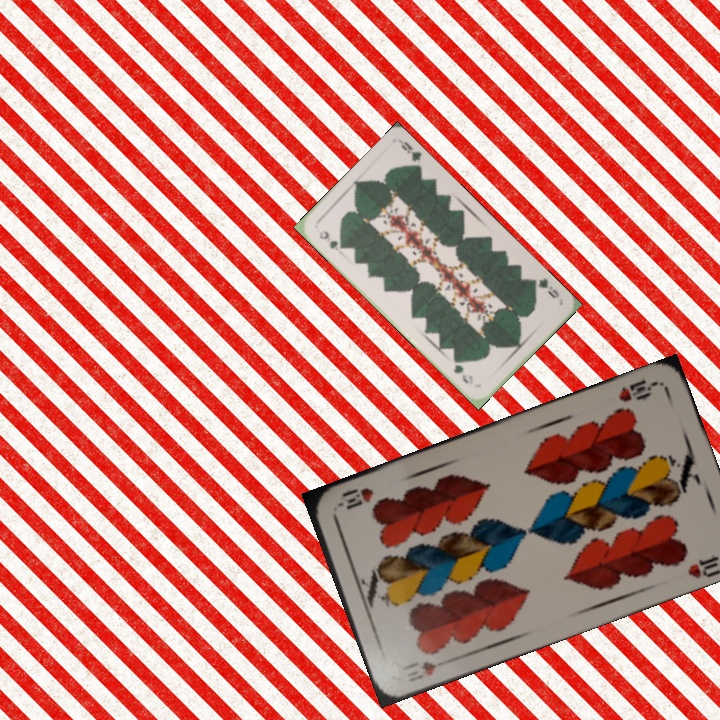G9: (526, 274, 562, 301), (315, 226, 347, 253)
H10: (614, 375, 660, 405), (398, 657, 439, 685)
